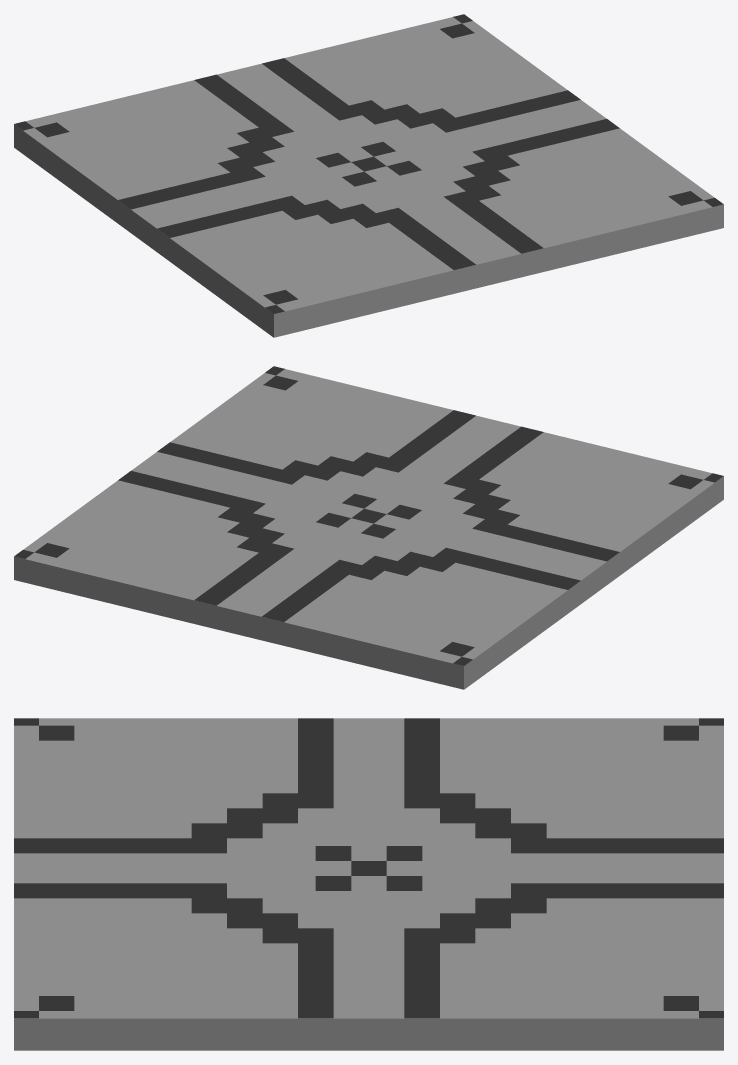
The model's file is cbgt_free_v0.4.0_ground_pavement_mixed_03_v1.1.0.glb.
The picture shows the model from 3 angles, top to bottom: view 1: azimuth 30°, elevation 25°; view 2: azimuth 150°, elevation 25°; view 3: azimuth 270°, elevation 25°; orthographic projection. The views are drawn at different scales.
Visible parts, largest first — view 1: cbgt_free_v0.4.0_ground_pavement_mixed_03_v1.1.0, decoration; view 2: cbgt_free_v0.4.0_ground_pavement_mixed_03_v1.1.0, decoration; view 3: cbgt_free_v0.4.0_ground_pavement_mixed_03_v1.1.0, decoration.
Boxes of the visible parts, bbox=[...] form: cbgt_free_v0.4.0_ground_pavement_mixed_03_v1.1.0: bbox=[14, 17, 723, 337]; decoration: bbox=[14, 14, 723, 313]; cbgt_free_v0.4.0_ground_pavement_mixed_03_v1.1.0: bbox=[14, 369, 723, 689]; decoration: bbox=[14, 366, 723, 665]; cbgt_free_v0.4.0_ground_pavement_mixed_03_v1.1.0: bbox=[14, 718, 723, 1050]; decoration: bbox=[14, 718, 723, 1018].
Size of the model in its own units: 10 by 0.502 by 10.
1 material, 1 textured.
